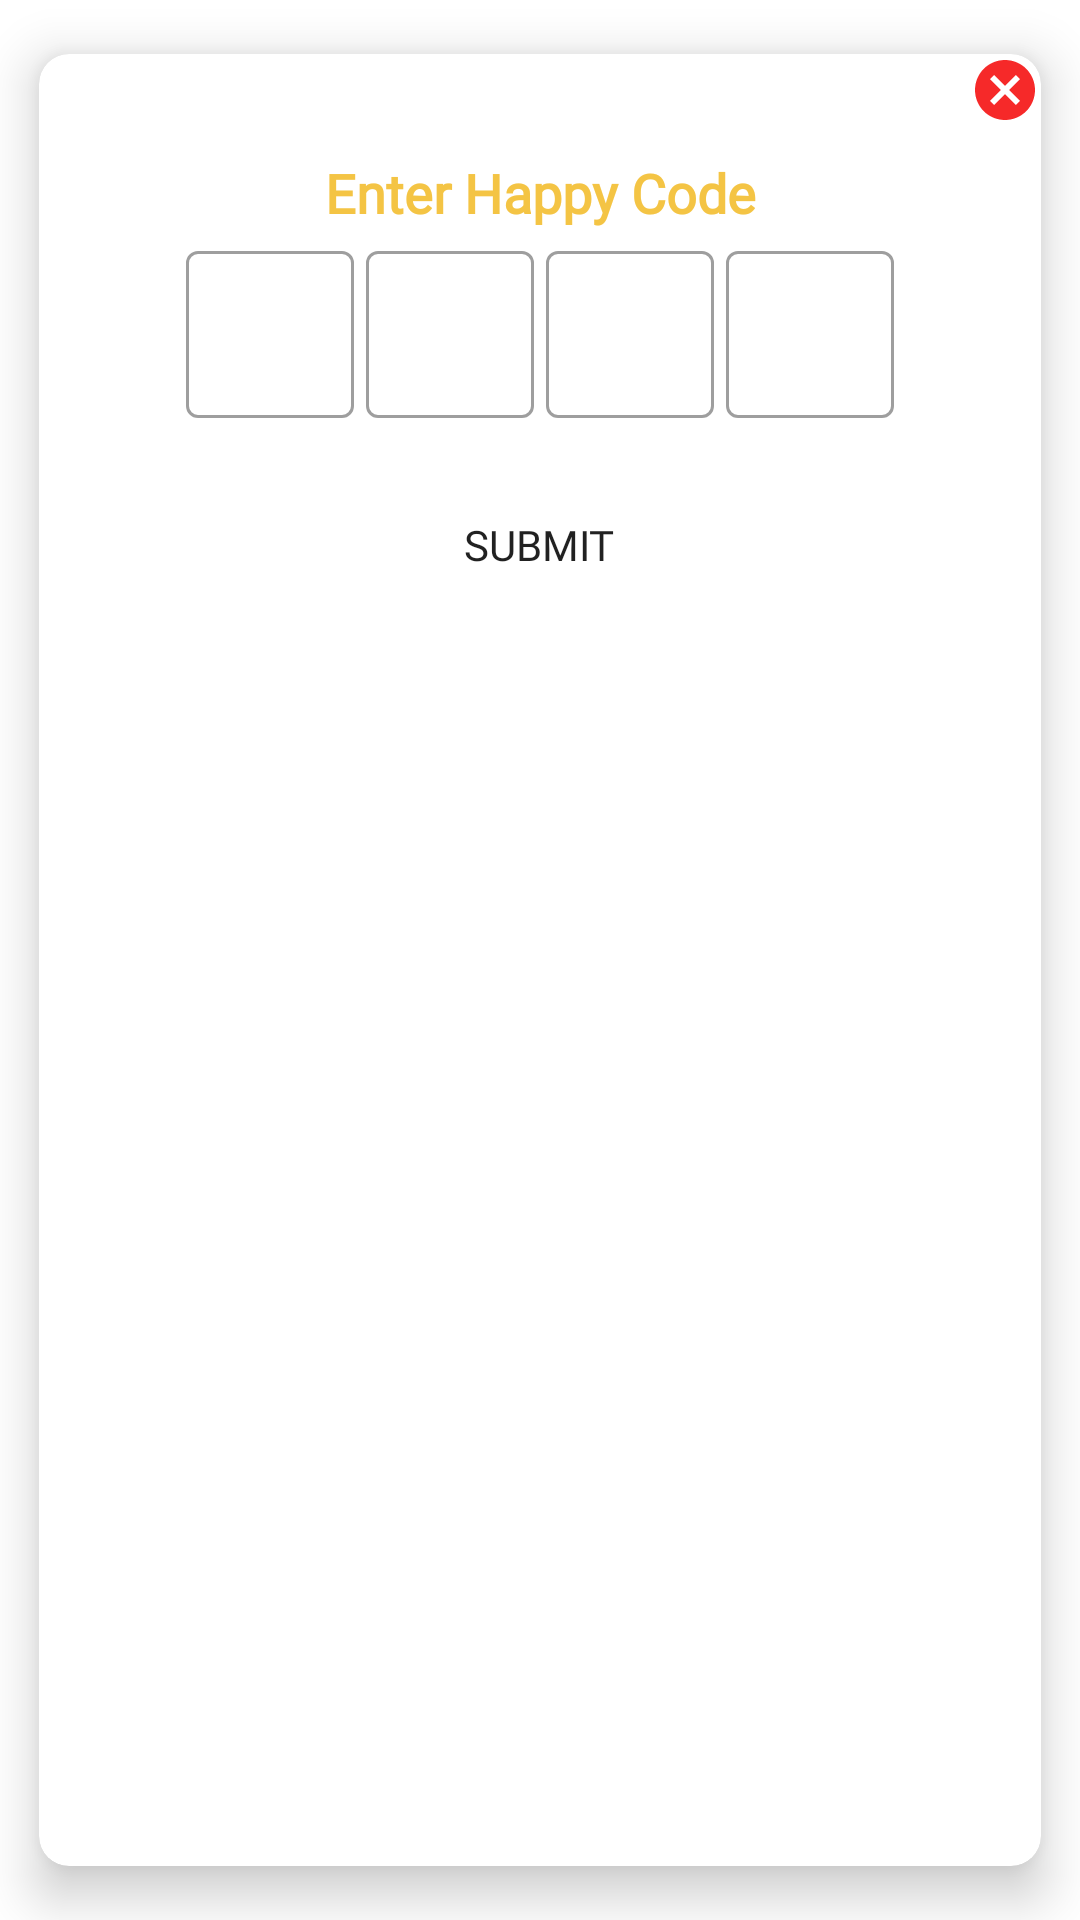

Point at icon controls on the screen. Image size 1080 x 1920, points as [x,y].
cancel: [1005,90]
